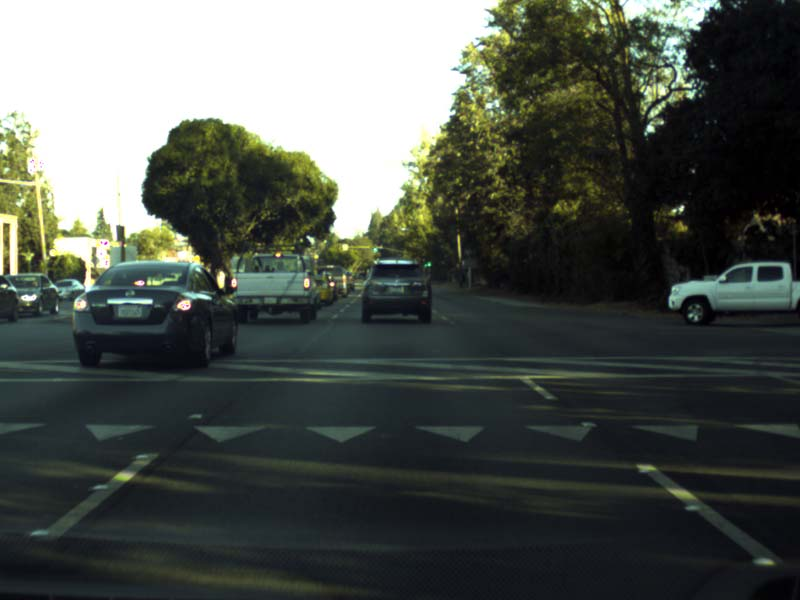Green: (426, 256, 433, 267), (372, 243, 378, 253)
